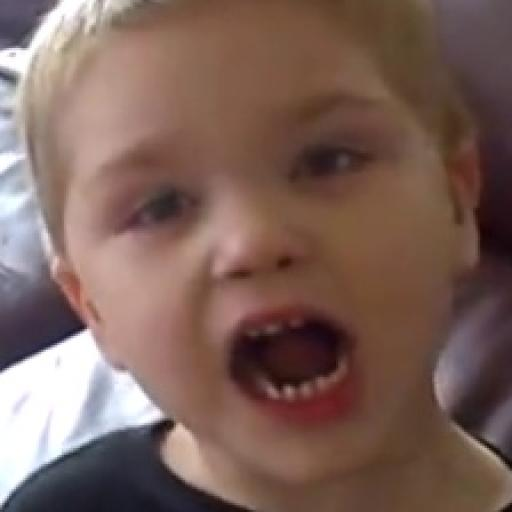Autism: (18, 0, 482, 491)
